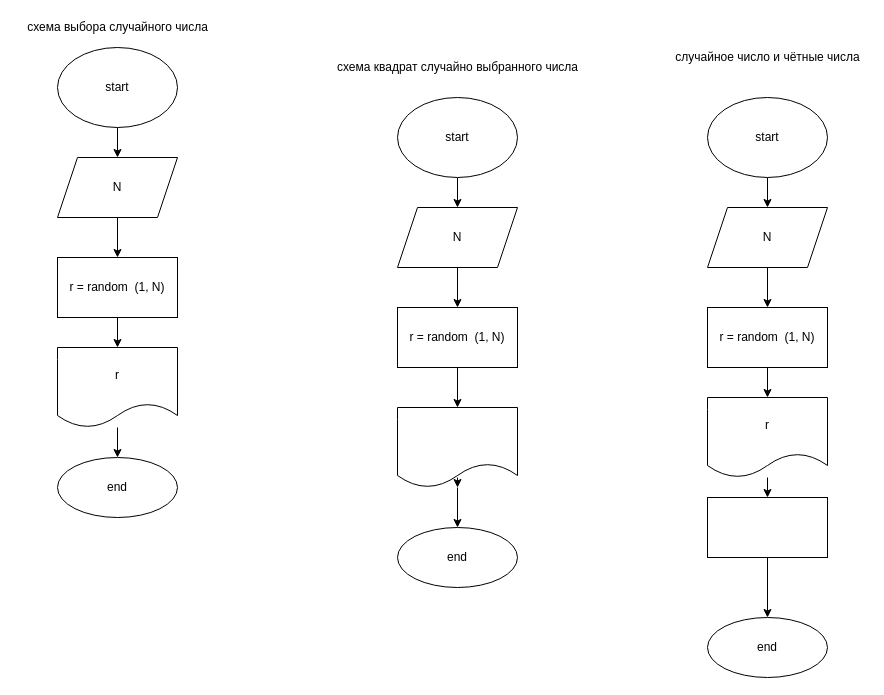
The diagram is 884 pixels wide and 695 high, and some of its shapes have lost their labels. The shapes that lost their labels are listed below. From the top down, each one's centre as x and y in pixels, then its label:
point 457,447: r * r
point 767,527: R = чётные (1, N)
